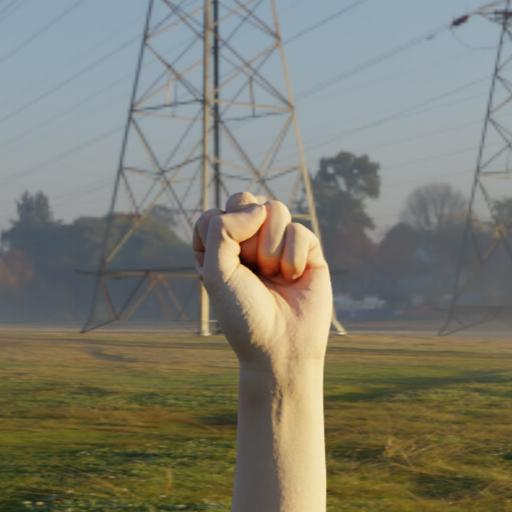S: (183, 182, 351, 383)
